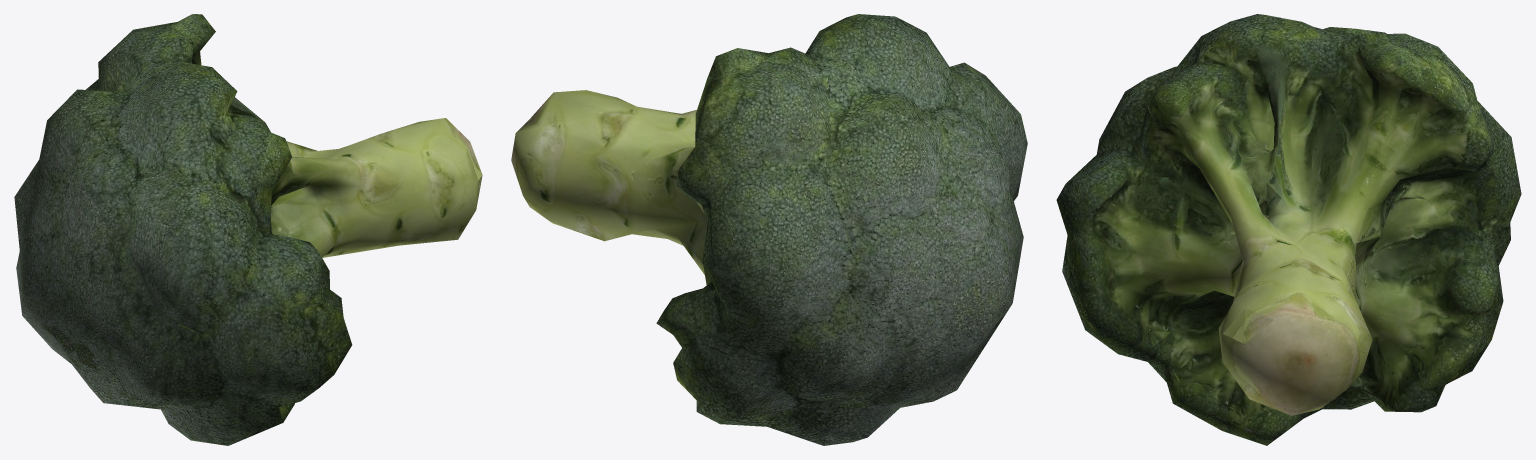
3 renders of one model, left to right at view 1: azimuth 30°, elevation 25°; view 2: azimuth 150°, elevation 25°; view 3: azimuth 270°, elevation 25°, orthographic. The views are drawn at different scales.
Visible parts, largest first — view 1: 49_broccoli; view 2: 49_broccoli; view 3: 49_broccoli.
Part boxes in pixels (box(x1,y1,x2,y2)): 49_broccoli: box(14, 14, 482, 445); 49_broccoli: box(511, 14, 1027, 445); 49_broccoli: box(1056, 14, 1521, 445).
Bounding box in the file's own units: 1.06 × 0.8623 × 0.9063.
Materials: 1 (1 with a texture image).
